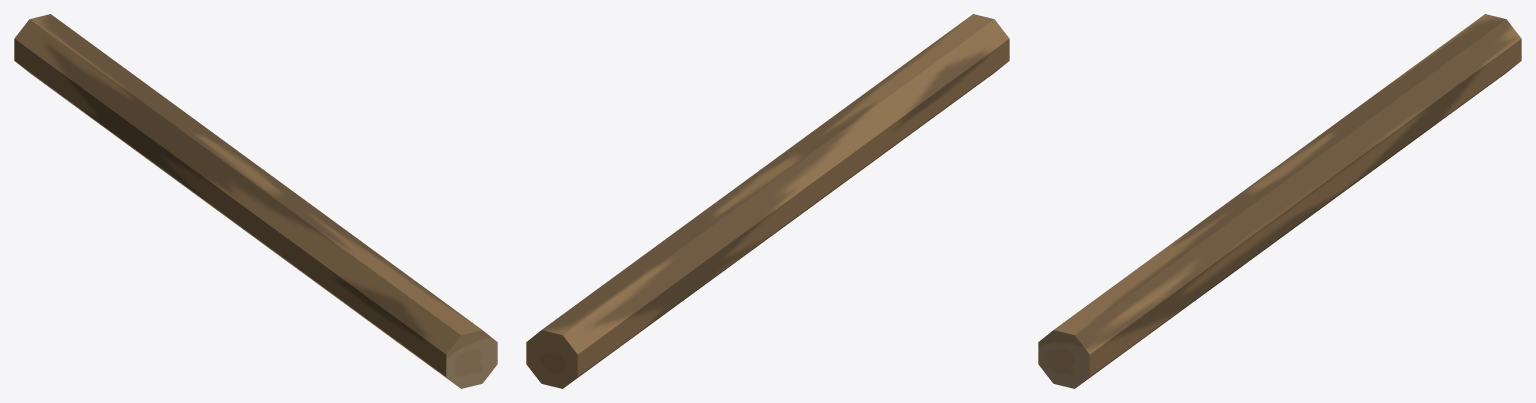
The model's file is SM_Prop_Log_Single_04.fbx.
3 views of the same model, side by side, from view 1: azimuth 30°, elevation 25°; view 2: azimuth 150°, elevation 25°; view 3: azimuth 330°, elevation 25° (orthographic).
Parts seen in each view (by area): view 1: SM_Prop_Log_Single_04; view 2: SM_Prop_Log_Single_04; view 3: SM_Prop_Log_Single_04.
Boxes of the visible parts, x1,y1,x2,y2 form: SM_Prop_Log_Single_04: (14, 14, 497, 388); SM_Prop_Log_Single_04: (526, 14, 1009, 388); SM_Prop_Log_Single_04: (1038, 14, 1521, 388).
Bounding box in the file's own units: 66.37 × 66.37 × 967.
